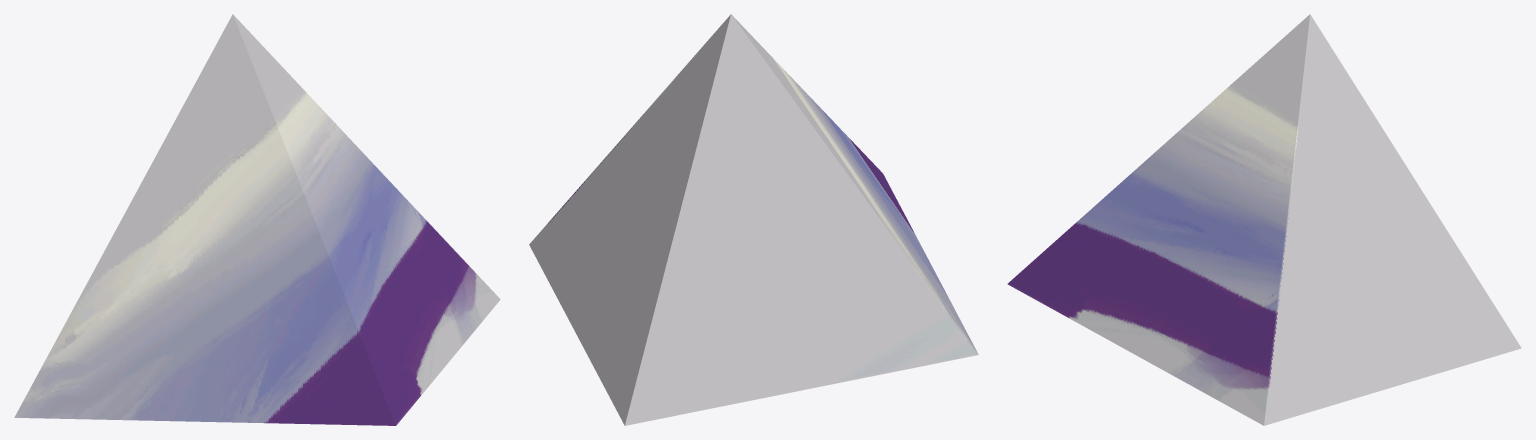
3 renders of one model, left to right at view 1: azimuth 30°, elevation 25°; view 2: azimuth 150°, elevation 25°; view 3: azimuth 270°, elevation 25°, orthographic. The views are drawn at different scales.
Visible parts, largest first — view 1: root; view 2: root; view 3: root.
Part boxes in pixels (x1,y1,x2,y2): root: [14, 14, 500, 425]; root: [529, 14, 978, 425]; root: [1007, 14, 1521, 425].
Bounding box in the file's own units: 0.2968 × 0.2107 × 0.294.
1 material, 1 textured.
